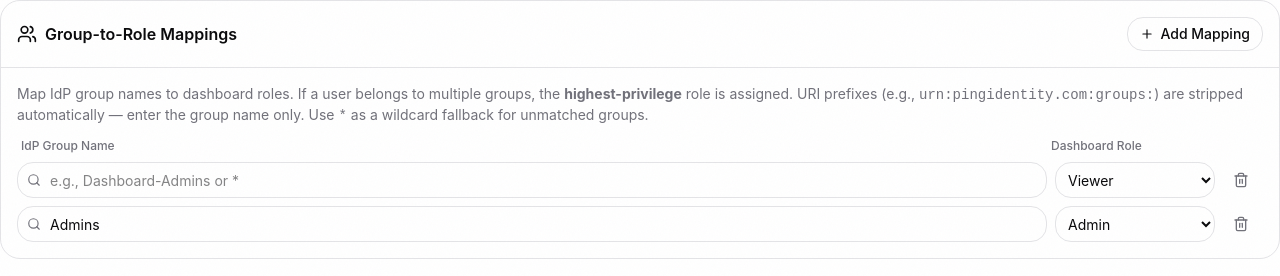
Test: GroupRoleMappingEditor › GroupNameAutocomplete › closes the listbox on Escape without committing
This screenshot has width=1280, height=276.
Focus the dropdown with test id "mapping-group-0" at (532, 180), box [17,162,1047,198]
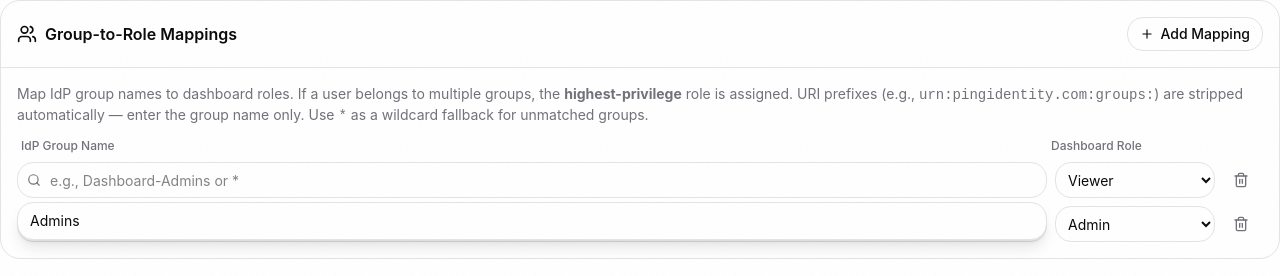
Now the list is shown, box [17,202,1047,240]
Press Escape in the dropdown with test id "mapping-group-0", box [17,162,1047,198]
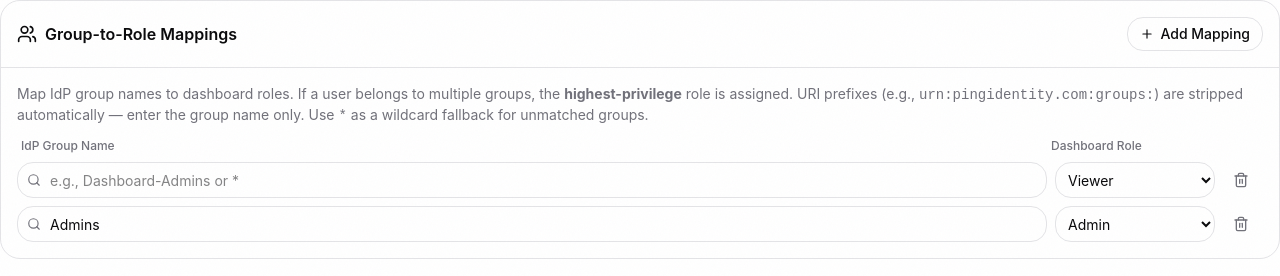
Now the list is gone
